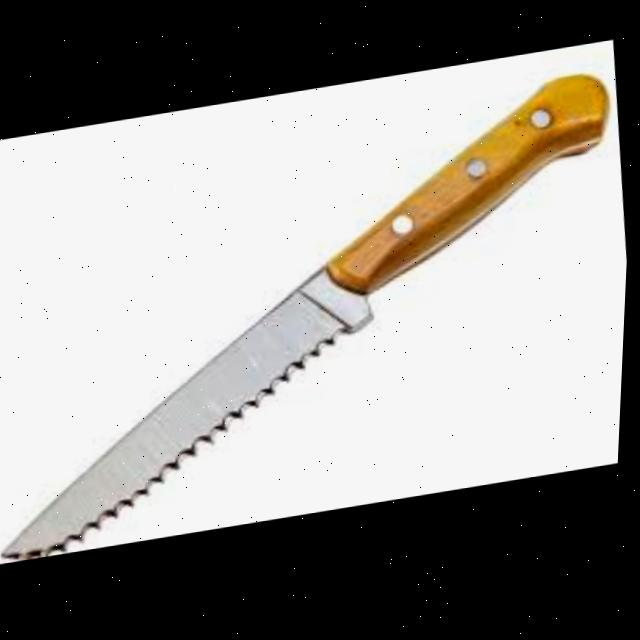knife: (0, 70, 637, 564)
